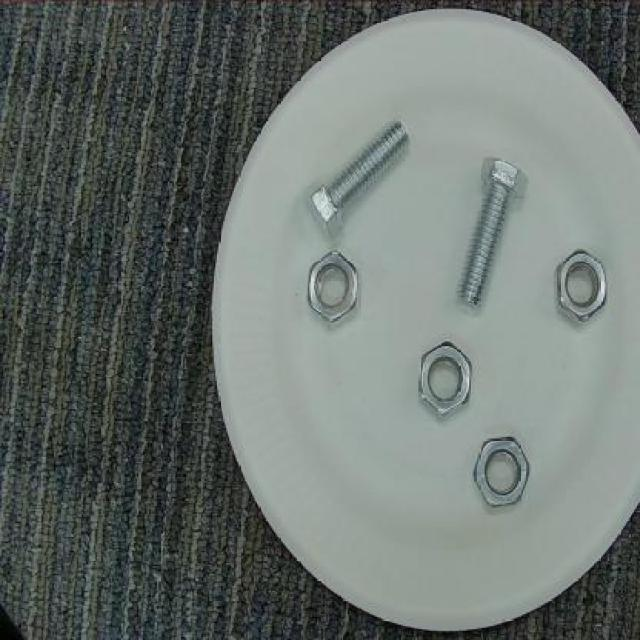Bolt: (308, 114, 416, 240), (452, 152, 530, 322)
Nut: (470, 434, 538, 514), (552, 247, 610, 336), (413, 336, 472, 422), (305, 249, 360, 329)
